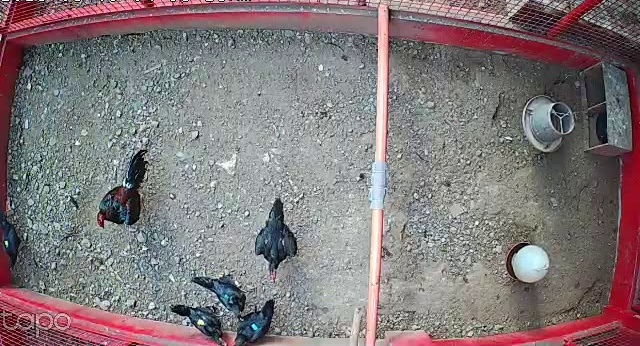Chicken: (254, 195, 301, 283), (189, 273, 249, 320), (171, 300, 227, 344), (233, 298, 276, 346), (0, 207, 24, 274)
Rooster: (91, 143, 161, 231), (250, 323, 260, 331)
Saddle_Color_Yellow: (197, 319, 205, 326)
Saddle_Color_YellowGreen: (4, 240, 9, 249)
